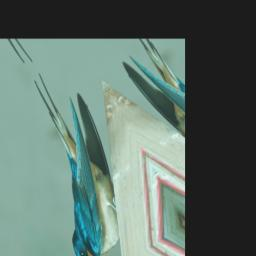Swallow: (0, 58, 160, 256)
